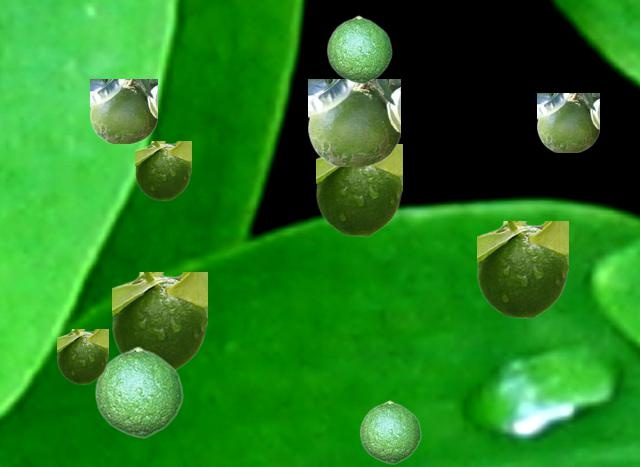dalandan: (112, 272, 206, 370), (477, 221, 567, 317), (94, 346, 182, 437), (308, 79, 399, 165), (316, 144, 401, 235), (326, 15, 391, 83), (90, 79, 156, 142), (359, 400, 420, 463), (537, 93, 598, 151), (135, 141, 190, 199), (57, 329, 107, 383)
